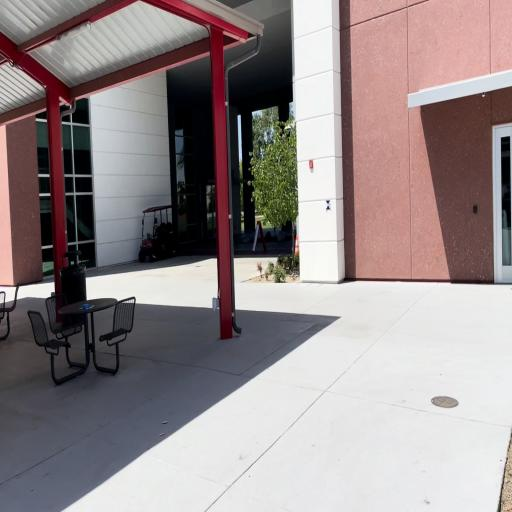target9: (326, 200, 332, 210)
